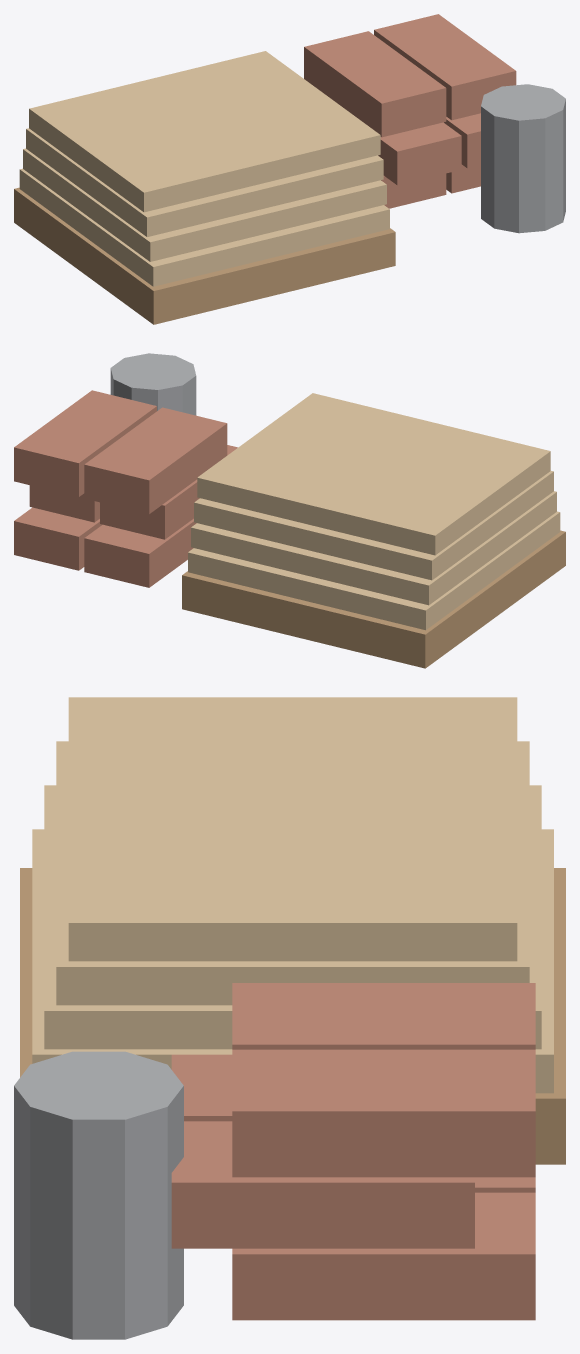
File: site_materials.glb
The picture shows the model from 3 angles, top to bottom: view 1: azimuth 30°, elevation 25°; view 2: azimuth 150°, elevation 25°; view 3: azimuth 270°, elevation 25°; orthographic projection. The views are drawn at different scales.
Parts seen in each view (by area): view 1: site_materials; view 2: site_materials; view 3: site_materials.
Part boxes in pixels (x1,y1,x2,y2): site_materials: (14,14,565,324); site_materials: (14,353,565,668); site_materials: (14,697,565,1339).
Bounding box in the file's own units: 1.58 × 0.435 × 0.91.
